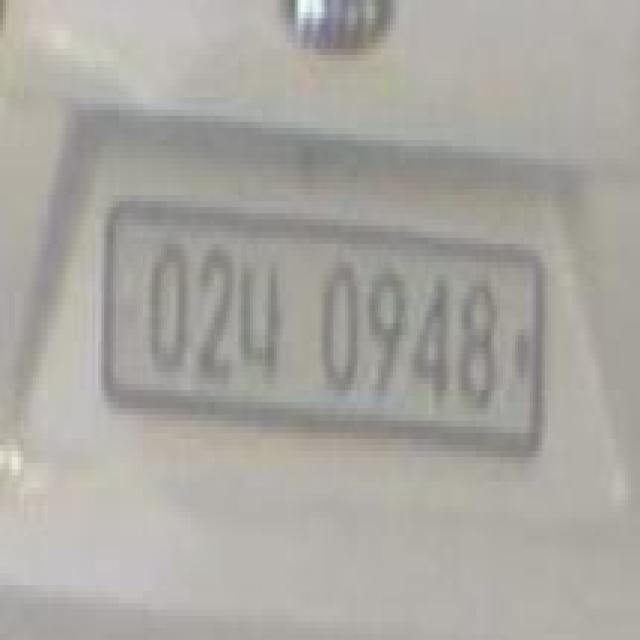illegal_plate: (99, 192, 543, 480)
